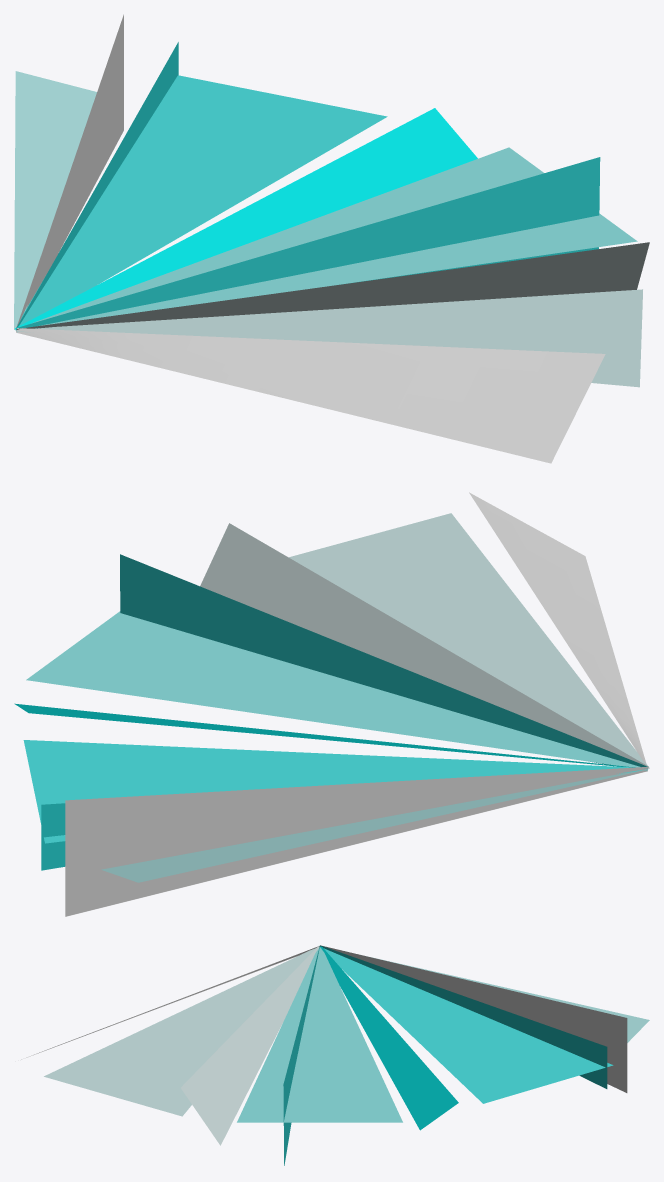
Rendered from SM_Holo_Projector_Beams.fbx.
The picture shows the model from 3 angles, top to bottom: view 1: azimuth 30°, elevation 25°; view 2: azimuth 150°, elevation 25°; view 3: azimuth 270°, elevation 25°; orthographic projection. The views are drawn at different scales.
Visible parts, largest first — view 1: SM_Holo_Projector_Beams; view 2: SM_Holo_Projector_Beams; view 3: SM_Holo_Projector_Beams.
Boxes of the visible parts, left/top/right/bottom form: SM_Holo_Projector_Beams: left=14, top=14, right=649, bottom=463; SM_Holo_Projector_Beams: left=14, top=492, right=649, bottom=916; SM_Holo_Projector_Beams: left=21, top=945, right=649, bottom=1165.
Size of the model in its own units: 100 by 153 by 22.18.
